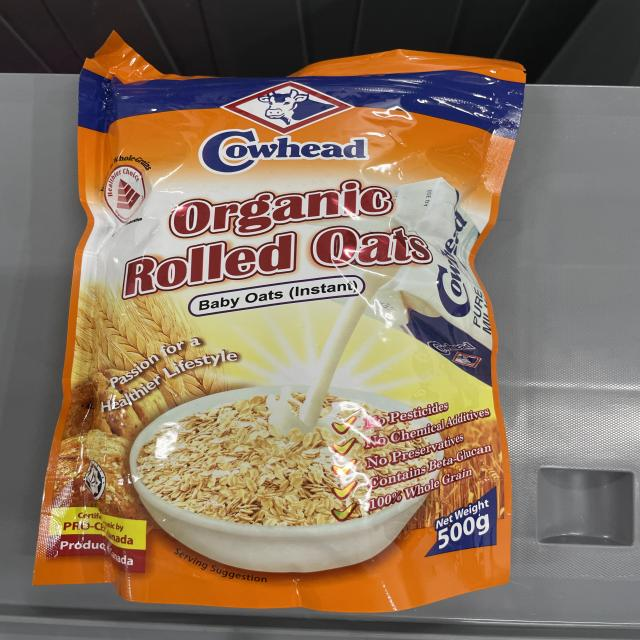object_name: (93, 57, 495, 591)
